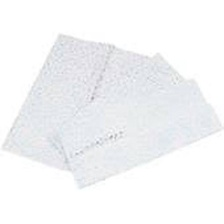tissue: (0, 26, 224, 194)
